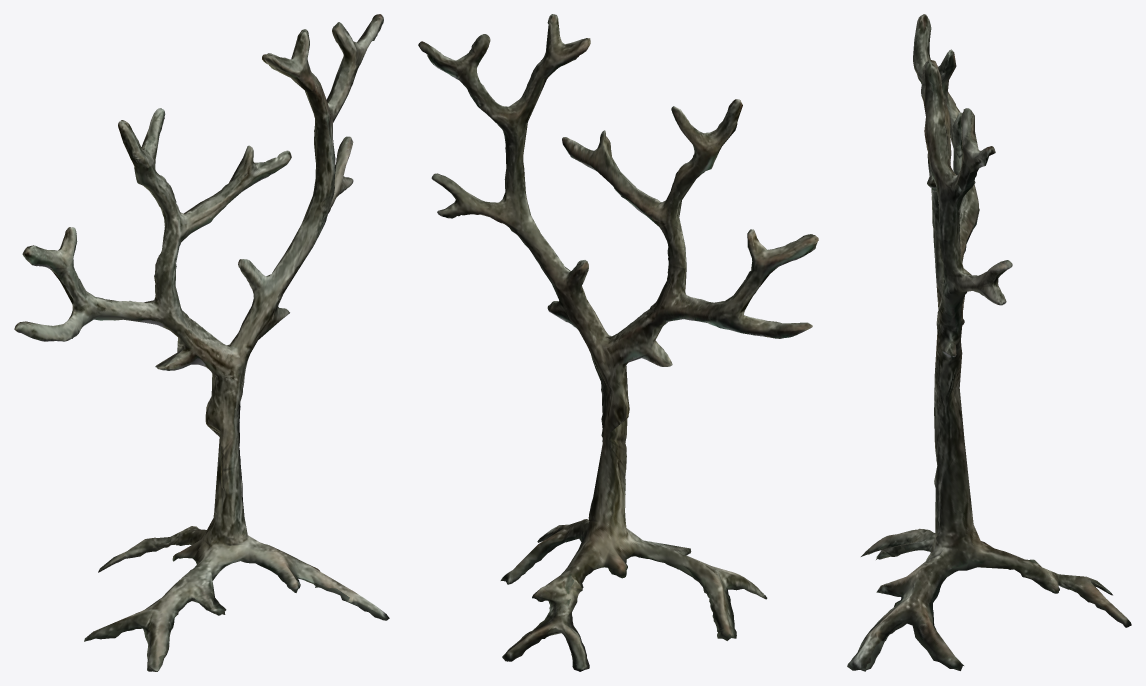
File: TreeTest2.1.FBX
3 renders of one model, left to right at view 1: azimuth 30°, elevation 25°; view 2: azimuth 150°, elevation 25°; view 3: azimuth 270°, elevation 25°, orthographic. The views are drawn at different scales.
Parts seen in each view (by area): view 1: Tree_Opt; view 2: Tree_Opt; view 3: Tree_Opt.
Boxes of the visible parts, <box> form: Tree_Opt: <box>14,14,389,671</box>; Tree_Opt: <box>418,14,818,671</box>; Tree_Opt: <box>847,14,1131,671</box>.
Bounding box in the file's own units: 0.2425 × 0.3477 × 0.1521.
Materials: 1 (1 with a texture image).
